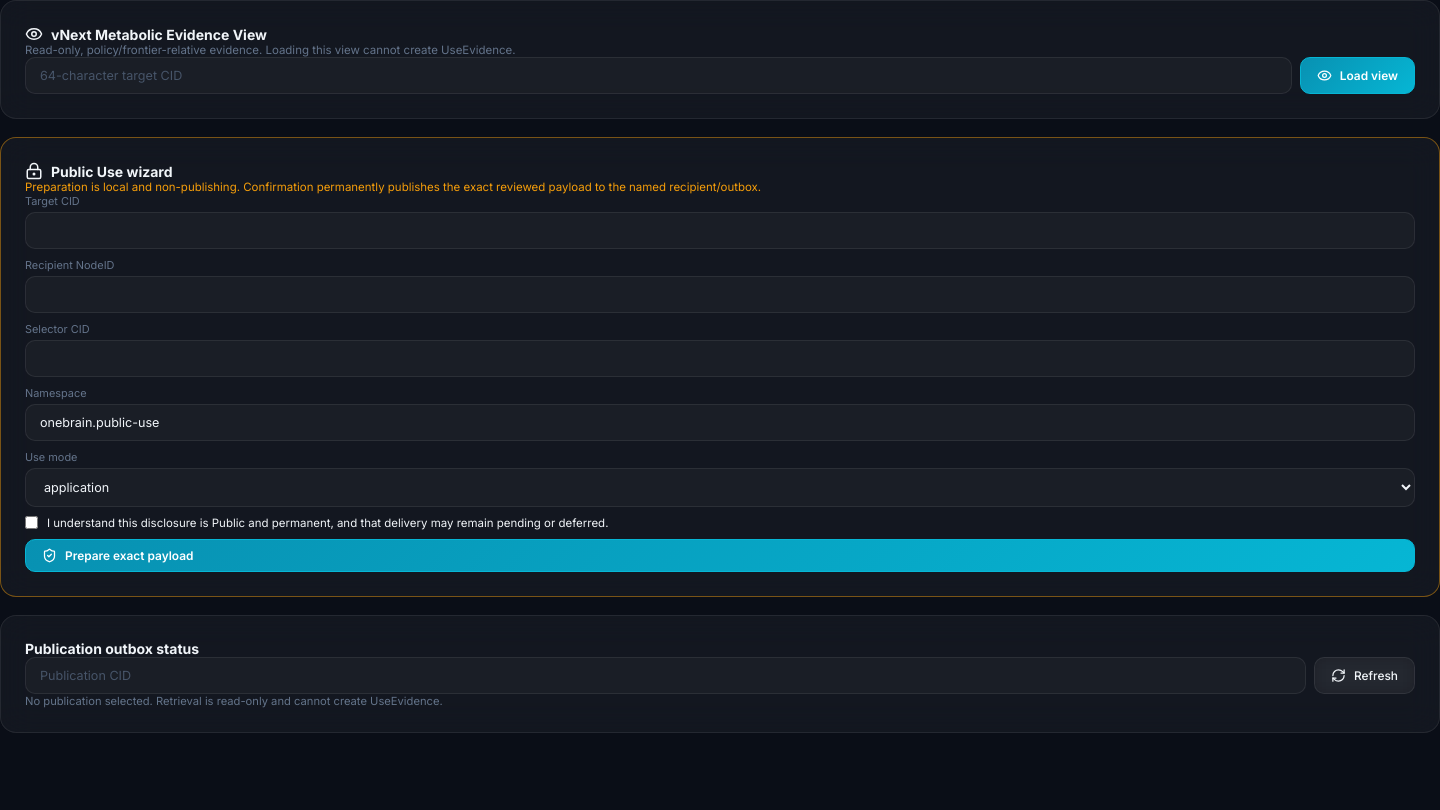
shows a conflicted evidence view as unresolved and never Authorized; loading creates no Use
Type "1111111111111111111111111111111111111111111111111111111111111111" into the field named "Evidence view target CID".
click(658, 76); type("1111111111111111111111111111111111111111111111111111111111111111")  # box [25,57,1292,94]
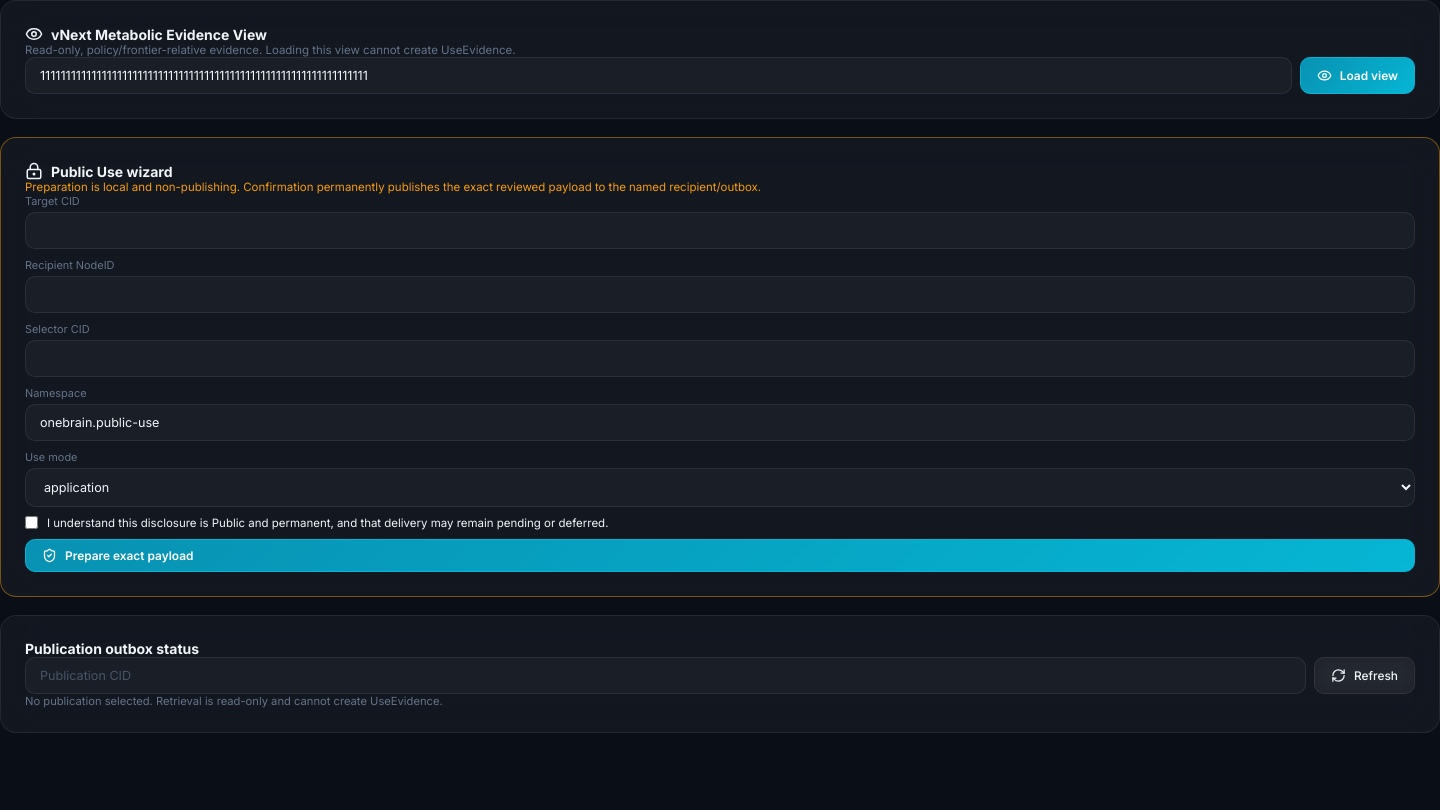
Click the button "Load view".
click(1357, 76)  # box [1300,57,1415,94]
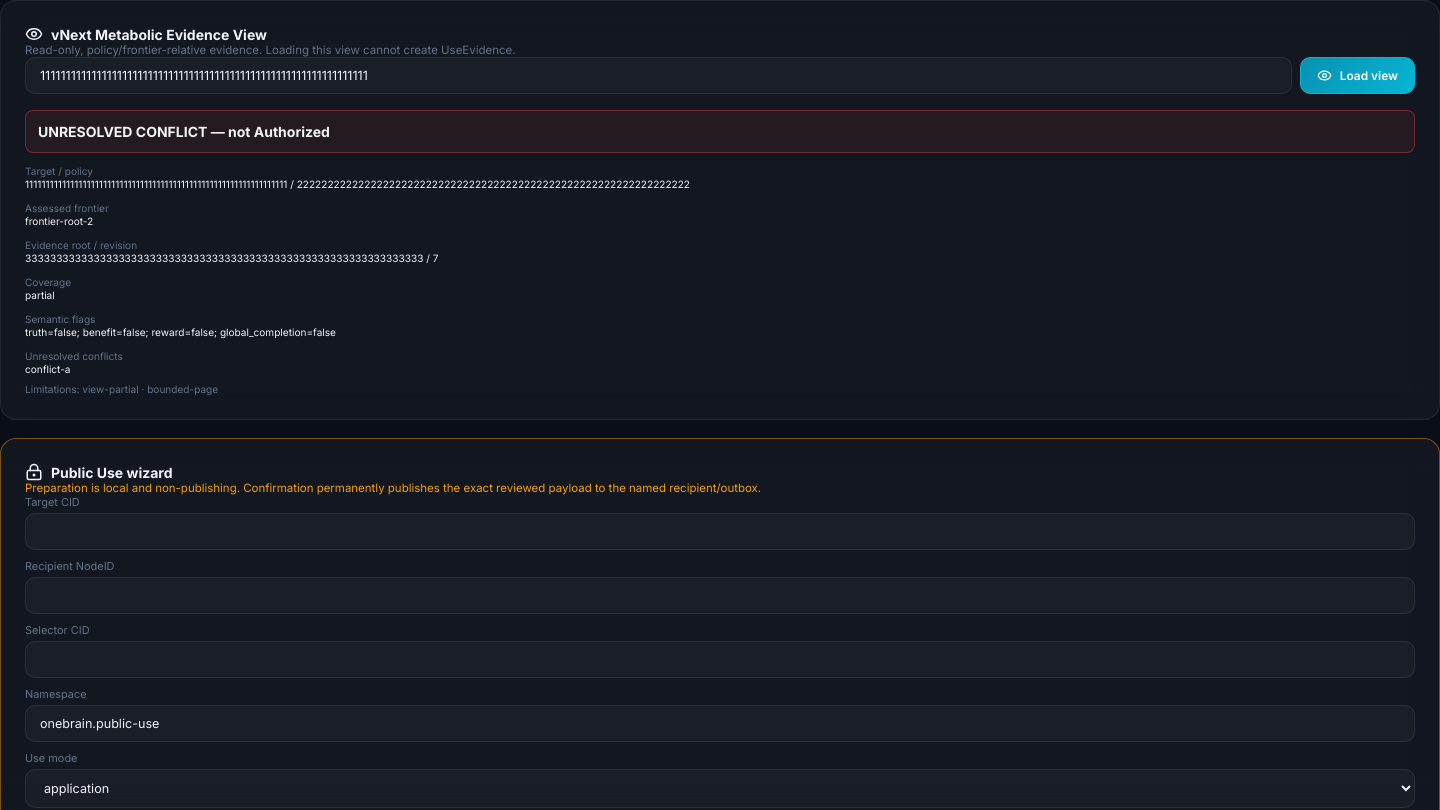
Expected: the text "UNRESOLVED CONFLICT — not Authorized" is shown, [38,123,330,140]
Expected: the text "frontier-root-2" is shown, [25,215,93,227]
Expected: the text "conflict-a" is shown, [25,363,70,375]
